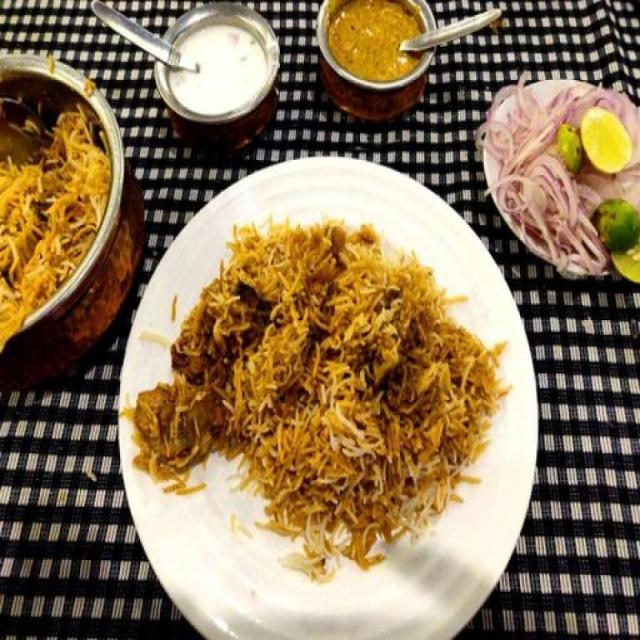Biryani: (135, 220, 502, 564), (0, 86, 106, 344)
